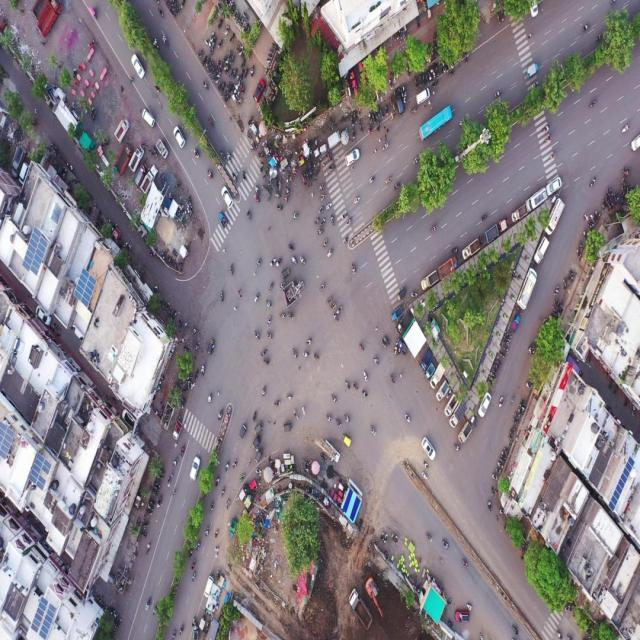3W: (216, 208, 230, 230), (260, 182, 272, 206), (342, 431, 354, 447), (280, 267, 291, 281), (253, 421, 264, 435), (238, 422, 246, 440), (89, 6, 98, 22), (398, 287, 407, 302), (282, 420, 292, 433), (207, 337, 214, 355), (252, 436, 261, 449), (255, 449, 262, 464)
Bus: (420, 104, 452, 147)
Cars: (128, 50, 148, 82), (421, 432, 437, 462), (477, 391, 492, 420), (534, 236, 548, 263), (189, 454, 201, 483), (546, 174, 562, 194), (141, 107, 156, 128), (174, 124, 186, 150), (415, 88, 432, 106), (253, 79, 266, 102), (394, 88, 404, 116), (220, 186, 233, 207), (346, 147, 360, 166), (454, 609, 469, 624)
LCV: (545, 196, 566, 237), (517, 268, 537, 310), (526, 184, 547, 213), (140, 166, 158, 193), (461, 236, 479, 262), (114, 116, 131, 142), (440, 257, 458, 279), (450, 404, 467, 427), (420, 269, 439, 289), (509, 203, 526, 224), (431, 363, 444, 389), (324, 440, 340, 461), (129, 146, 143, 170), (133, 161, 146, 186), (445, 393, 458, 416), (396, 314, 410, 334), (458, 423, 472, 443), (436, 380, 448, 401), (328, 130, 342, 148), (156, 138, 168, 158), (510, 314, 522, 334), (421, 349, 432, 369), (172, 420, 182, 440), (391, 304, 402, 322), (424, 363, 434, 380), (398, 338, 407, 356)
M2W: (619, 120, 630, 135), (213, 471, 222, 488), (542, 134, 554, 146), (589, 172, 597, 190), (227, 261, 236, 277), (587, 98, 598, 111), (348, 262, 358, 276), (206, 165, 214, 182), (203, 523, 211, 540), (219, 484, 227, 501), (144, 595, 152, 612), (549, 147, 557, 163), (216, 406, 224, 422), (460, 557, 469, 571), (225, 493, 232, 511), (368, 424, 378, 436), (429, 223, 439, 235), (541, 122, 551, 134), (424, 531, 434, 543), (272, 398, 282, 410), (362, 369, 369, 386), (583, 18, 590, 35), (498, 394, 505, 411), (360, 387, 369, 400), (384, 174, 393, 187), (412, 154, 421, 167), (275, 256, 284, 269), (289, 253, 298, 266), (230, 458, 239, 471), (238, 470, 247, 483), (334, 416, 343, 429), (404, 413, 412, 427), (421, 470, 429, 484), (336, 302, 344, 316), (253, 326, 260, 342), (299, 252, 307, 266), (207, 501, 215, 515), (251, 408, 259, 422), (510, 624, 520, 635), (324, 413, 333, 425), (452, 442, 461, 454), (465, 600, 474, 612), (312, 352, 321, 364), (304, 335, 313, 347), (291, 210, 300, 222), (325, 200, 334, 212), (207, 390, 213, 408), (479, 212, 488, 224), (253, 289, 260, 304), (328, 245, 335, 260), (191, 569, 198, 584), (180, 442, 186, 459), (352, 195, 361, 206), (381, 142, 390, 153), (318, 182, 327, 193), (318, 192, 327, 203), (352, 377, 359, 391), (372, 355, 379, 369), (442, 537, 449, 551), (332, 311, 339, 325), (265, 314, 272, 328), (255, 255, 262, 269), (226, 150, 233, 164), (153, 36, 160, 50), (170, 626, 177, 640), (357, 340, 365, 352), (345, 215, 353, 227), (368, 173, 376, 185), (494, 88, 502, 100), (290, 347, 298, 359), (286, 390, 294, 402), (312, 214, 320, 226), (202, 80, 210, 92), (158, 8, 166, 20), (153, 83, 161, 95), (178, 624, 186, 636), (200, 362, 206, 378), (389, 373, 396, 386), (244, 210, 251, 223), (240, 169, 247, 182), (344, 413, 351, 426), (384, 333, 391, 346), (224, 25, 231, 38), (218, 289, 224, 304), (316, 226, 325, 236), (172, 454, 178, 469), (141, 522, 150, 532), (422, 459, 430, 470), (266, 330, 274, 341), (279, 310, 287, 321), (330, 392, 337, 404), (344, 380, 351, 392), (319, 281, 326, 293), (330, 300, 337, 312), (262, 383, 268, 397), (269, 257, 276, 269), (323, 236, 330, 248), (208, 116, 215, 128), (162, 34, 169, 46), (193, 148, 200, 160), (224, 460, 230, 474), (190, 558, 197, 570), (387, 77, 393, 91), (519, 398, 528, 407), (501, 345, 510, 354), (326, 295, 334, 305), (252, 193, 260, 203), (278, 280, 286, 290), (320, 452, 328, 462), (551, 308, 559, 318), (409, 106, 417, 116), (194, 539, 200, 552), (213, 527, 219, 540), (299, 172, 305, 185), (240, 57, 246, 70), (554, 281, 560, 294), (500, 10, 506, 23), (288, 242, 295, 253), (287, 310, 294, 321), (216, 18, 223, 29), (330, 214, 336, 226), (318, 205, 326, 214), (231, 170, 237, 182), (556, 628, 562, 640), (367, 123, 373, 135), (326, 150, 332, 162), (229, 32, 235, 44), (239, 83, 245, 95), (209, 44, 215, 56), (507, 432, 513, 444), (517, 408, 525, 417), (393, 180, 400, 190), (303, 350, 310, 360), (262, 357, 269, 367), (261, 348, 268, 358), (252, 184, 259, 194), (276, 204, 283, 214), (353, 109, 358, 123), (278, 178, 283, 192), (200, 55, 207, 65), (562, 276, 567, 290), (576, 248, 581, 262), (72, 67, 77, 81), (275, 190, 281, 201), (198, 49, 204, 60), (224, 64, 230, 75), (526, 380, 532, 391), (89, 107, 95, 118), (402, 84, 407, 97), (194, 368, 199, 381), (157, 494, 162, 507), (579, 240, 584, 253), (389, 94, 393, 110), (508, 426, 516, 434), (265, 300, 272, 309), (257, 150, 264, 159), (140, 531, 147, 540), (148, 498, 155, 507), (342, 210, 348, 220), (268, 282, 274, 292), (321, 215, 326, 227), (219, 150, 225, 160), (259, 162, 264, 174), (263, 168, 268, 180), (217, 39, 223, 49), (217, 2, 223, 12), (233, 68, 238, 80), (552, 297, 558, 307), (567, 274, 573, 284), (432, 80, 438, 90), (359, 120, 363, 134), (308, 162, 312, 176), (505, 331, 512, 339), (305, 171, 310, 182), (248, 115, 253, 126), (221, 54, 226, 65), (221, 82, 226, 93), (152, 146, 157, 157), (380, 339, 386, 348), (206, 39, 212, 48), (148, 149, 154, 158), (229, 67, 233, 80), (216, 58, 220, 71), (440, 62, 444, 75), (418, 74, 422, 87), (422, 74, 426, 87), (328, 164, 335, 171), (145, 509, 152, 516), (498, 352, 505, 359), (380, 108, 384, 120), (350, 114, 354, 126), (351, 128, 355, 140), (250, 65, 254, 77), (568, 270, 576, 276), (92, 111, 96, 123), (448, 71, 454, 79), (442, 62, 446, 74), (372, 114, 376, 125), (210, 31, 214, 42), (239, 70, 243, 81), (228, 50, 232, 61), (224, 59, 228, 70), (218, 79, 222, 90), (377, 104, 380, 118), (152, 488, 158, 495), (492, 474, 498, 481), (498, 462, 504, 469), (513, 419, 519, 426), (514, 413, 520, 420), (495, 358, 502, 364), (268, 176, 272, 186), (284, 193, 288, 203), (239, 45, 243, 55), (244, 68, 248, 78), (494, 468, 502, 473), (216, 75, 220, 84), (499, 458, 505, 464), (493, 364, 499, 370), (142, 142, 148, 148), (415, 76, 418, 88), (385, 104, 388, 115), (377, 121, 380, 132), (220, 64, 223, 75), (275, 178, 278, 188), (502, 451, 508, 456), (232, 54, 234, 65)
Truck: (347, 586, 374, 634), (36, 0, 64, 40), (114, 143, 133, 175)
